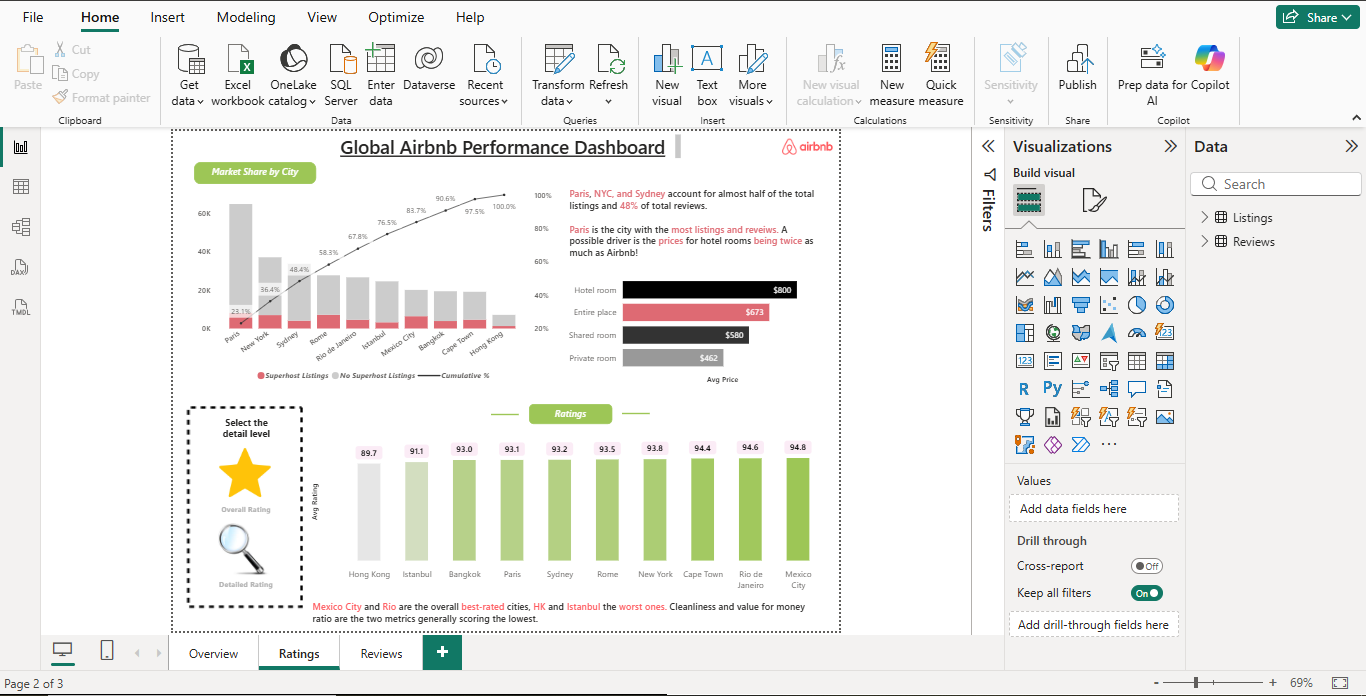

Layout of this report page (visuals, bound fields, positions):
{"tool":"powerbi","page":{"name":"Ratings","canvas":[960,720],"ordinal":1},"visuals":[{"type":"textbox","box":[223.7,0,512.6,44.6],"z":0},{"type":"image","box":[877,0,73.4,44.6],"z":1000},{"type":"textbox","box":[30.2,44.6,175.7,31.7],"z":2000},{"type":"textbox","box":[565.9,76.3,367.2,123.8],"z":3000},{"type":"lineStackedColumnComboChart","fields":{"Category":["Listings.city"],"Y":["Listings.Superhost Listings","Listings.No Superhost Listings"],"Y2":["Listings.Cumulative %"]},"box":[30.2,76.3,521.3,293.8],"z":4000},{"type":"barChart","fields":{"Category":["Listings.room_type"],"Y":["Listings.Avg Price"]},"box":[558.7,190.1,381.6,180],"z":5000},{"type":"image","box":[55.6,446.5,95,90.7],"z":5007,"group":"g1"},{"type":"shape","box":[57,531.5,95,25.9],"z":5012,"group":"g1"},{"type":"textbox","box":[512.6,393.1,119.5,28.8],"z":6000},{"type":"shape","box":[457.9,371.5,40.3,73.4],"z":7000},{"type":"shape","box":[646.6,370.1,40.3,73.4],"z":8000},{"type":"image","box":[0,364.3,210.2,355.7],"z":9000},{"type":"shape","box":[60.5,403.2,90.7,47.5],"z":10000},{"type":"image","box":[56.1,564.5,95,76.3],"z":11000,"group":"g2"},{"type":"pivotTable","fields":{"Rows":["Listings.city"],"Values":["Listings.Accuracy","Listings.Cleanliness","Listings.Communication","Listings.Location","Listings.Value"]},"box":[194.4,434.9,756,234.7],"z":12000},{"type":"group","id":"g1","title":"Group 1","box":[55.6,446.5,96.5,110.9],"z":13000},{"type":"group","id":"g2","title":"Group 2","box":[51.8,564.5,106.6,99.4],"z":14000},{"type":"shape","box":[51.8,640.8,106.6,23],"z":14000,"group":"g2"},{"type":"textbox","box":[195.8,671,735.8,49],"z":15000}]}

Visuals, with their boxes on the page's 960x720 design canvas (x1, y1, x2, y2). These are canvas units, not pixel positions in the 1366x696 screenshot, which may show the page scaled, cropped or inside an application window:
textbox: [224, 0, 736, 45]
image: [877, 0, 950, 45]
textbox: [30, 45, 206, 76]
textbox: [566, 76, 933, 200]
lineStackedColumnComboChart - Listings.city x Listings.Superhost Listings: [30, 76, 552, 370]
barChart - Listings.room_type x Listings.Avg Price: [559, 190, 940, 370]
image: [56, 446, 151, 537]
shape: [57, 532, 152, 557]
textbox: [513, 393, 632, 422]
shape: [458, 372, 498, 445]
shape: [647, 370, 687, 444]
image: [0, 364, 210, 720]
shape: [60, 403, 151, 451]
image: [56, 564, 151, 641]
pivotTable - Listings.city x Listings.Accuracy: [194, 435, 950, 670]
"Group 1" group: [56, 446, 152, 557]
"Group 2" group: [52, 564, 158, 664]
shape: [52, 641, 158, 664]
textbox: [196, 671, 932, 720]
